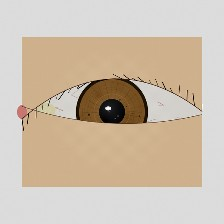pinguecula_lesion: (27, 95, 65, 126)
